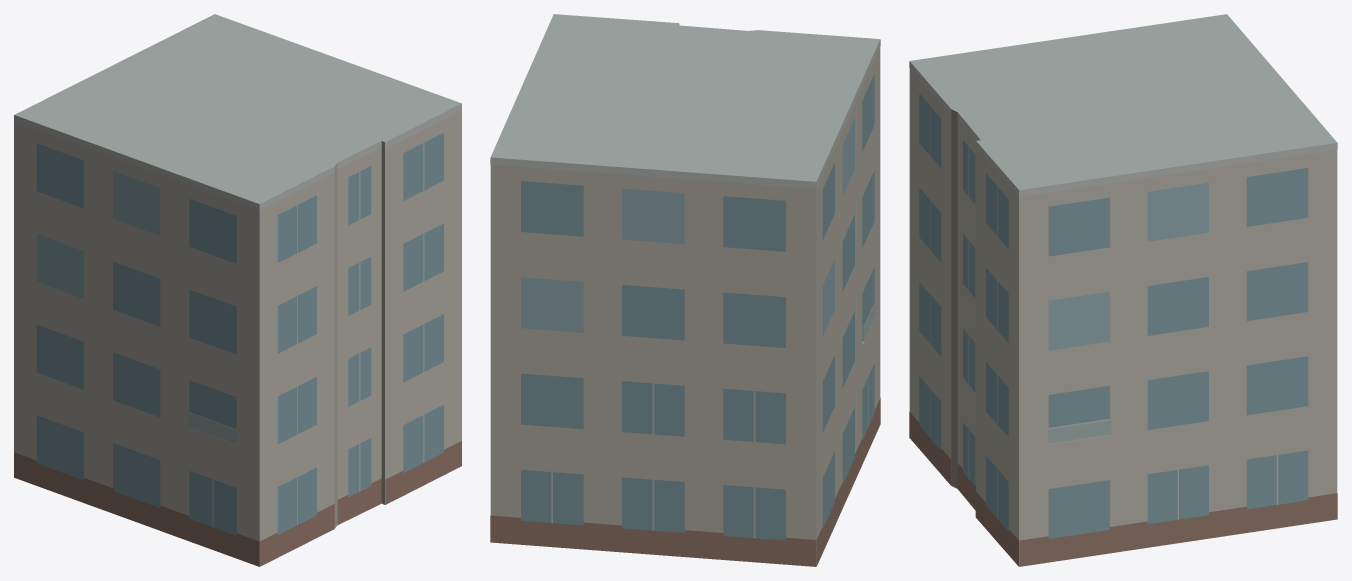
File: survey-upis-32741747.glb
The picture shows the model from 3 angles, left to right: view 1: azimuth 30°, elevation 25°; view 2: azimuth 150°, elevation 25°; view 3: azimuth 270°, elevation 25°; orthographic projection. The views are drawn at different scales.
Parts seen in each view (by area): view 1: survey-upis-32741747.tmp; view 2: survey-upis-32741747.tmp; view 3: survey-upis-32741747.tmp.
Part boxes in pixels (x1,y1,x2,y2): survey-upis-32741747.tmp: (14,14,461,566); survey-upis-32741747.tmp: (490,14,880,566); survey-upis-32741747.tmp: (909,14,1337,566).
Bounding box in the file's own units: 13.15 × 13.1 × 13.5.
